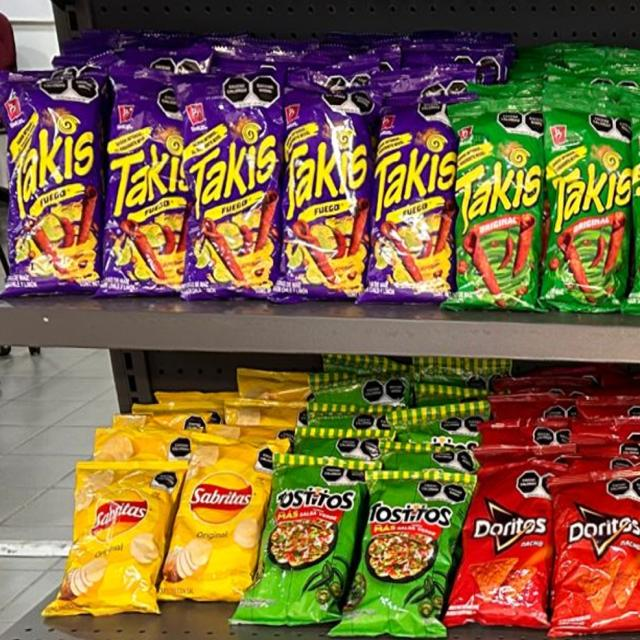doritosNacho: (466, 448, 548, 626), (552, 476, 638, 631)
sabritasOriginal: (74, 464, 160, 617), (168, 445, 253, 597)
takisFuego: (2, 68, 99, 290), (189, 75, 279, 299), (285, 80, 365, 297), (111, 74, 184, 299), (376, 102, 450, 300)
takisOriginal: (458, 103, 540, 312), (546, 105, 625, 315)
tostitos: (363, 471, 446, 638), (265, 456, 354, 611)
